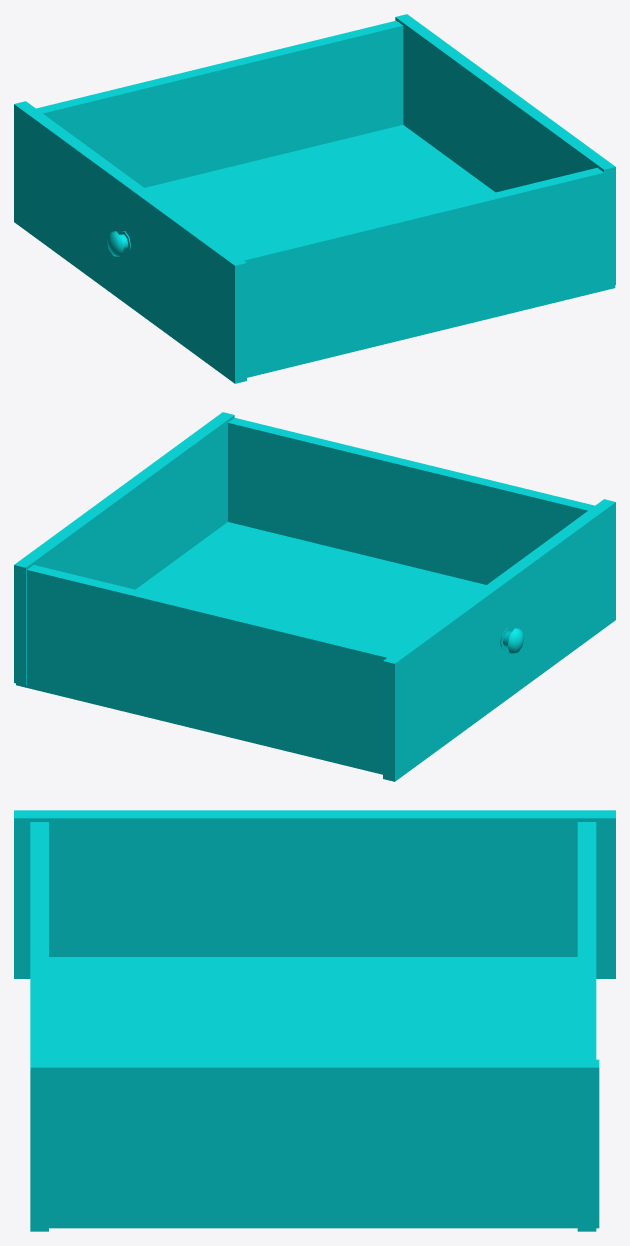
The model's file is Desk_01_Drawer.fbx.
3 views of the same model, one above another, from view 1: azimuth 30°, elevation 25°; view 2: azimuth 150°, elevation 25°; view 3: azimuth 270°, elevation 25° (orthographic). The views are drawn at different scales.
Parts seen in each view (by area): view 1: Desk_01_Drawer; view 2: Desk_01_Drawer; view 3: Desk_01_Drawer.
Part boxes in pixels (<box>): Desk_01_Drawer: <box>14,14,615,383</box>; Desk_01_Drawer: <box>14,412,615,781</box>; Desk_01_Drawer: <box>14,810,615,1231</box>.
Bounding box in the file's own units: 43.75 × 12.56 × 41.65.
